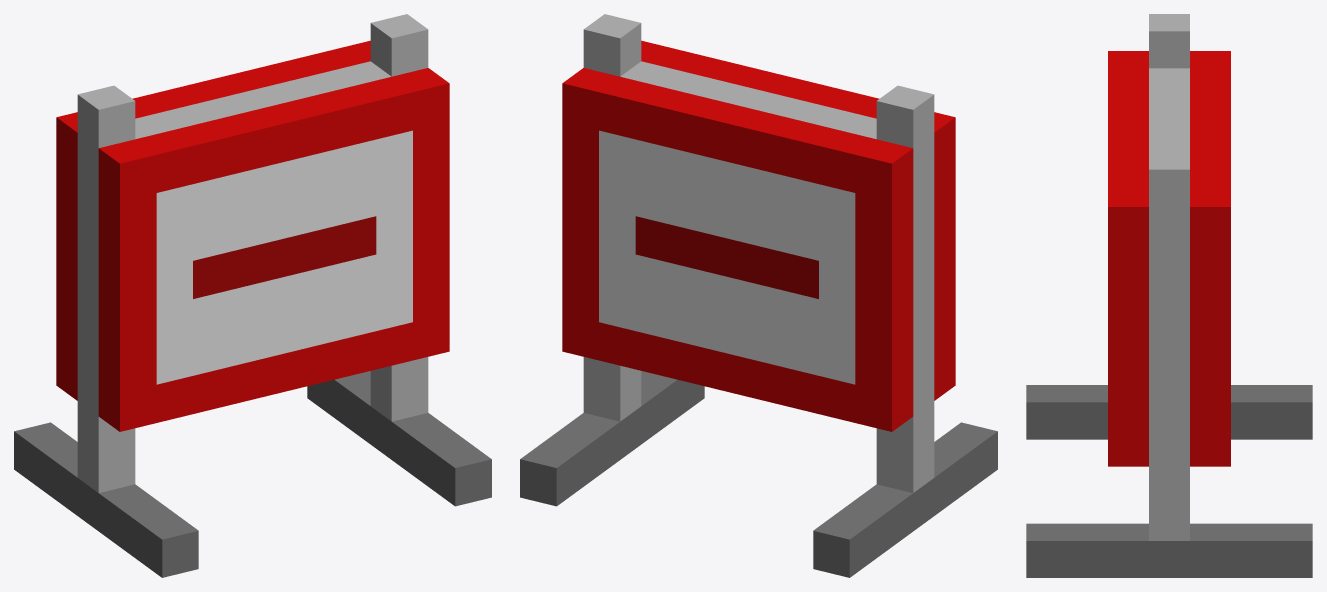
The model's file is obj_sign8.obj.
3 views of the same model, side by side, from view 1: azimuth 30°, elevation 25°; view 2: azimuth 150°, elevation 25°; view 3: azimuth 270°, elevation 25° (orthographic). The views are drawn at different scales.
Size of the model in its own units: 0.9 by 1.1 by 0.7.
1 material, 1 textured.
